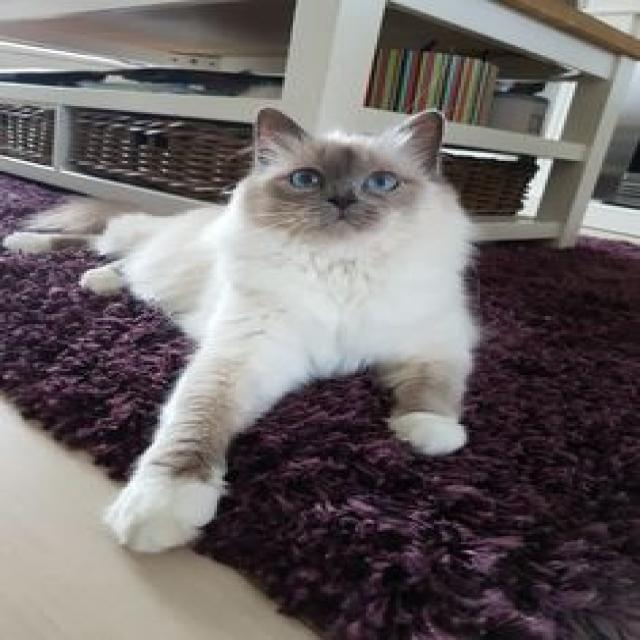da khoe manh: (184, 240, 418, 354)
